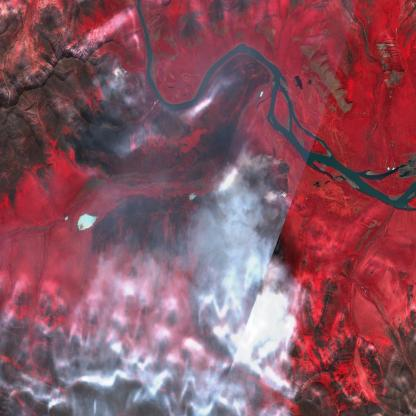fire: (215, 148, 291, 355), (110, 58, 150, 90)
